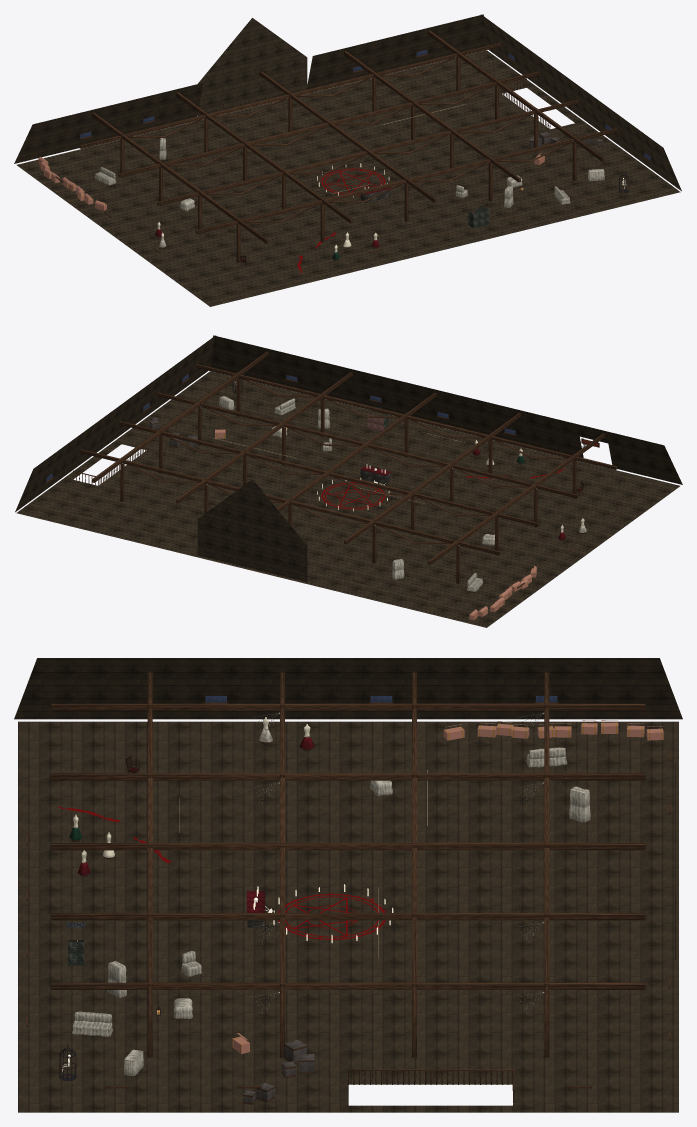
Rendered from house_attic.glb.
The picture shows the model from 3 angles, top to bottom: view 1: azimuth 30°, elevation 25°; view 2: azimuth 150°, elevation 25°; view 3: azimuth 270°, elevation 25°; orthographic projection. The views are drawn at different scales.
Visible parts, largest first — view 1: house_attic; view 2: house_attic; view 3: house_attic.
Part boxes in pixels (box(x1,y1,x2,y2)): house_attic: box(14, 14, 681, 306); house_attic: box(15, 335, 682, 627); house_attic: box(14, 658, 682, 1112).
Bounding box in the file's own units: 56.5 × 10.35 × 40.5.
32 materials, 23 textured.
